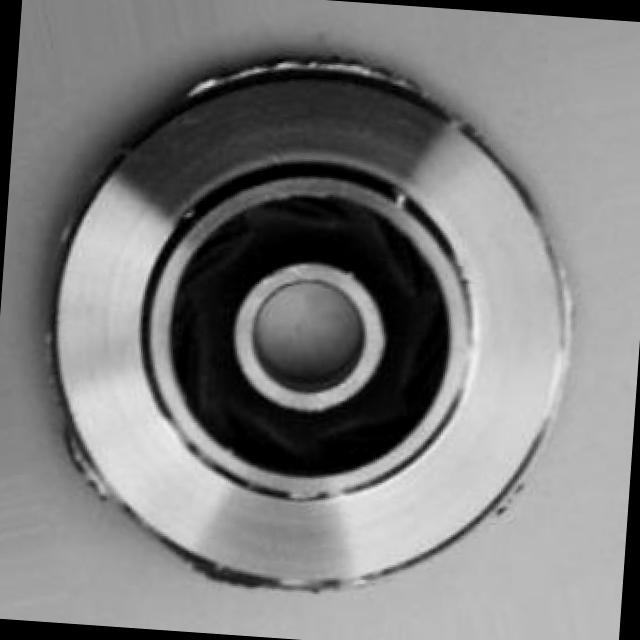Defect: (258, 41, 420, 90)
